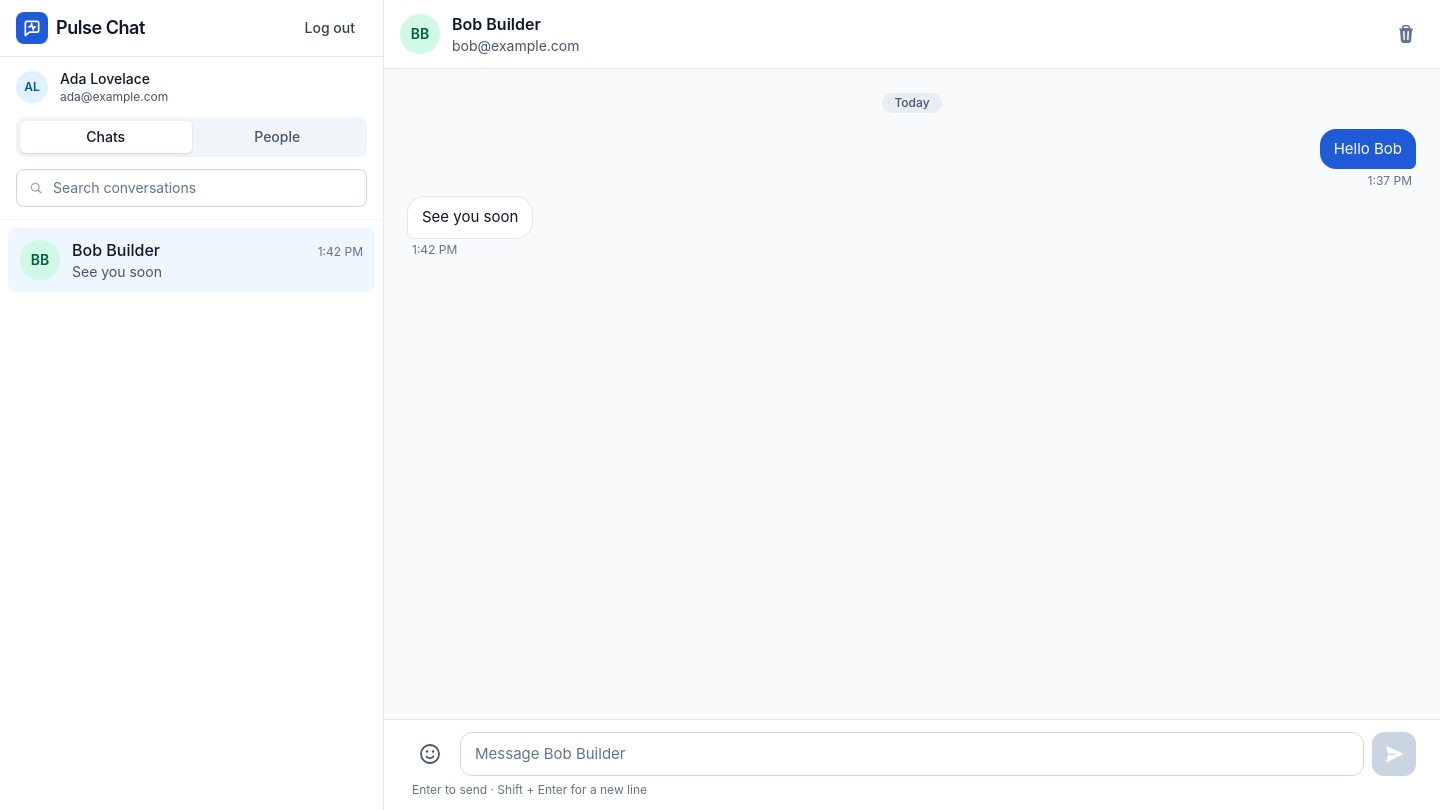
Test: deleting › deletes my own message for everyone after confirming
Expected: the heading "Bob Builder" is shown, [452,14,541,34]
Expected: the button "Hello Bob" is shown, [1320,129,1416,169]
Click the element showing "See you soon": x=470, y=218 [408,197,532,238]
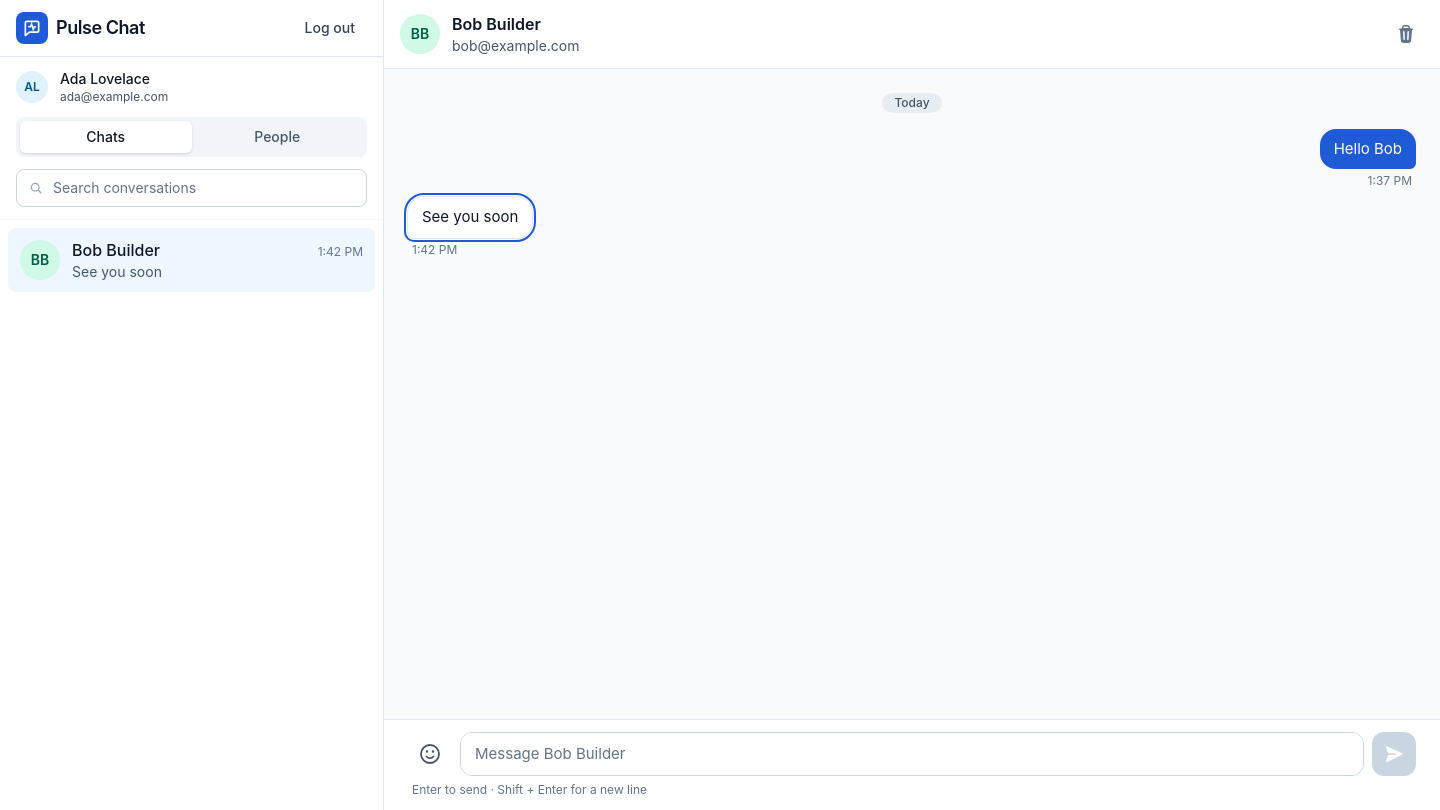
Click the button "Hello Bob": x=1368, y=149 [1320,129,1416,169]
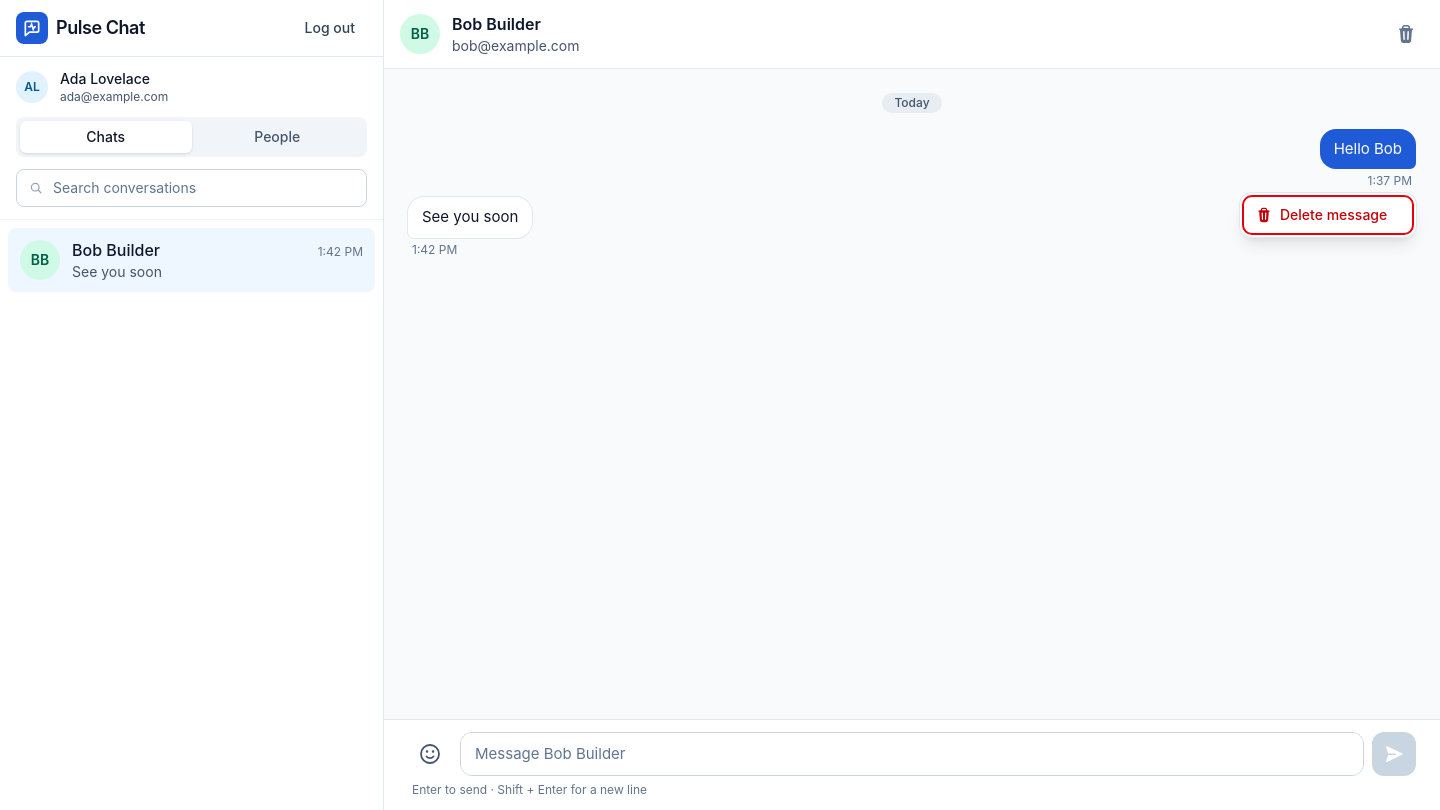
Click the menu item "Delete message": x=1328, y=215 [1244,197,1412,233]
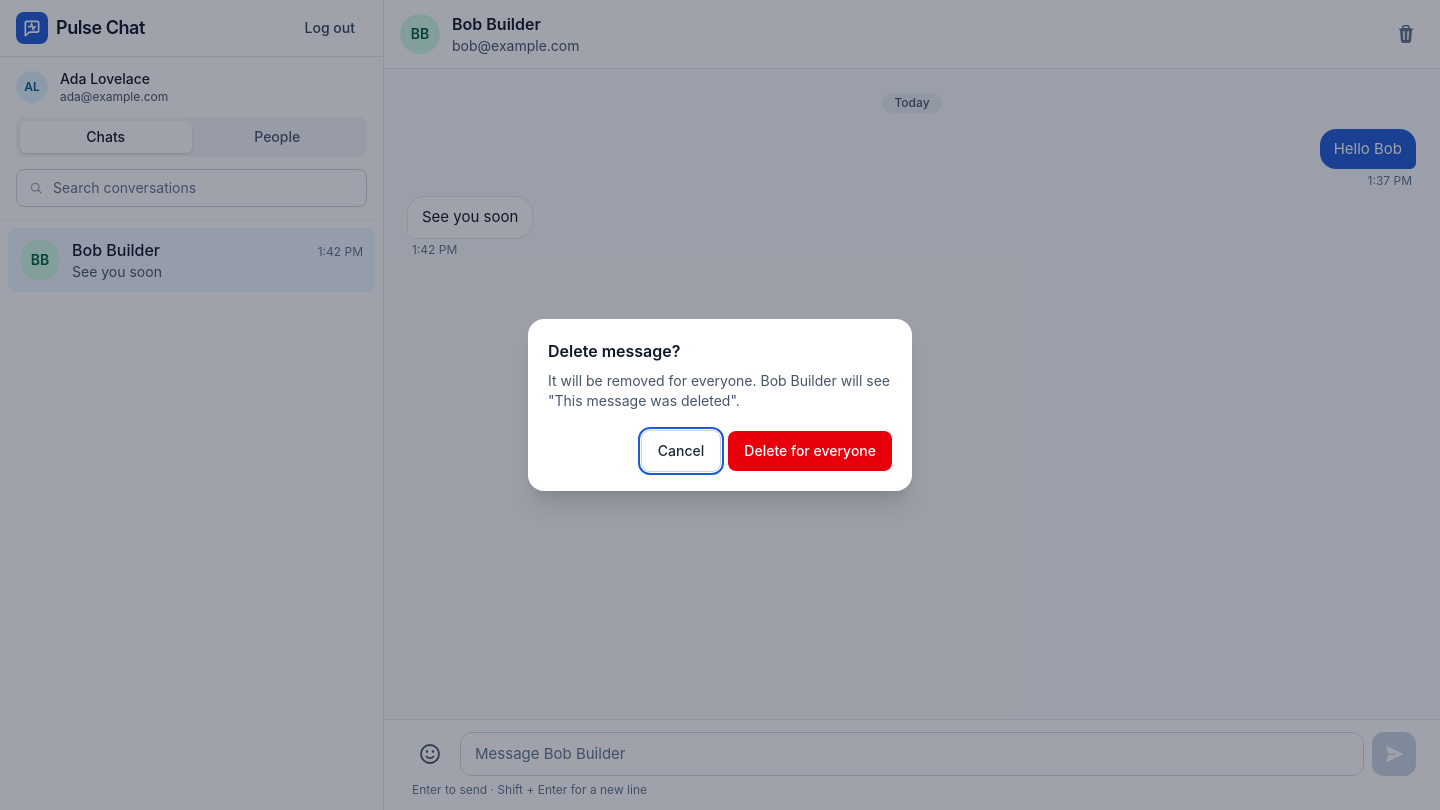
Click the button "Delete for everyone": x=810, y=451 [728,431,892,471]
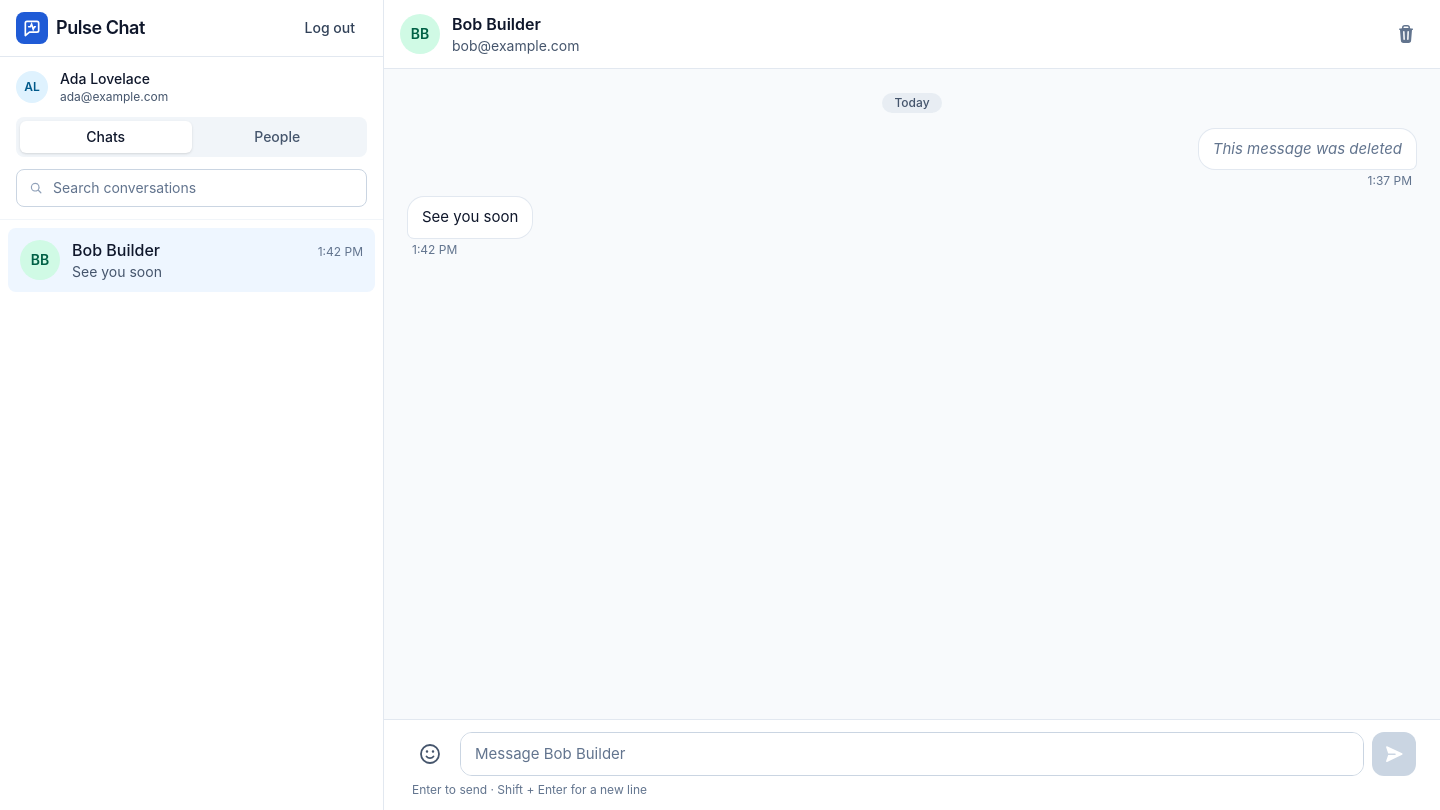
Expected: the text "This message was deleted" is shown, [1199,129,1416,169]
Expected: the button "Hello Bob" is gone
Expected: the dialog is gone
